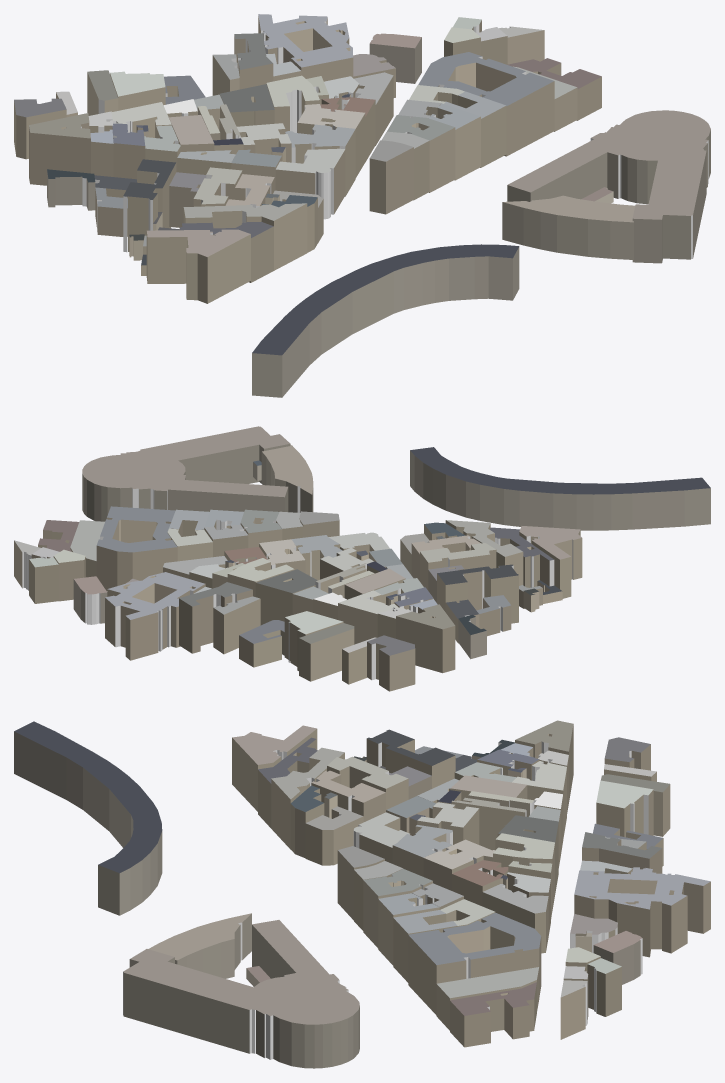
3 views of the same model, one above another, from view 1: azimuth 30°, elevation 25°; view 2: azimuth 150°, elevation 25°; view 3: azimuth 270°, elevation 25° (orthographic). The views are drawn at different scales.
Visible parts, largest first — view 1: tuile; view 2: tuile; view 3: tuile.
Part boxes in pixels (x1,y1,x2,y2): tuile: [14, 14, 710, 397]; tuile: [14, 426, 710, 691]; tuile: [14, 720, 710, 1068].
Bounding box in the file's own units: 298 × 37.21 × 303.
